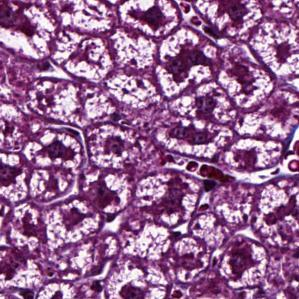inflammation: (156, 27, 219, 96), (91, 123, 135, 172)
